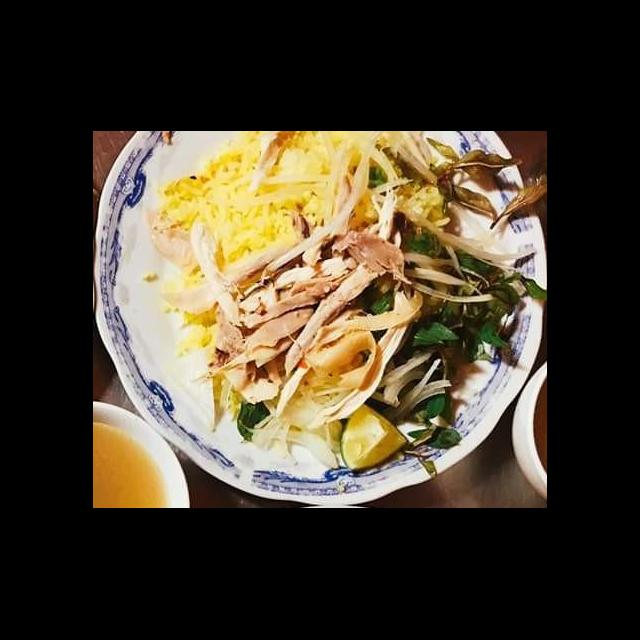com: (154, 136, 299, 292)
rau ram: (406, 248, 547, 370), (420, 134, 547, 232), (405, 386, 464, 450), (233, 396, 277, 446)
thit ga: (185, 256, 388, 408), (298, 182, 415, 290)
